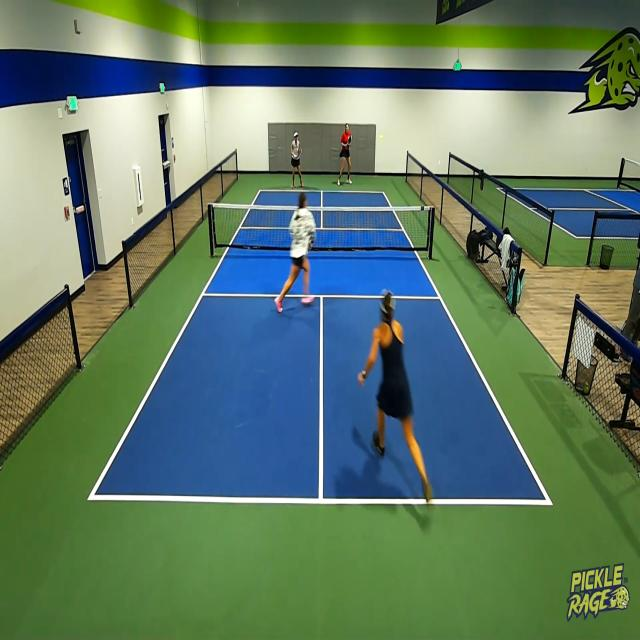Pickleball: (378, 132, 384, 143)
